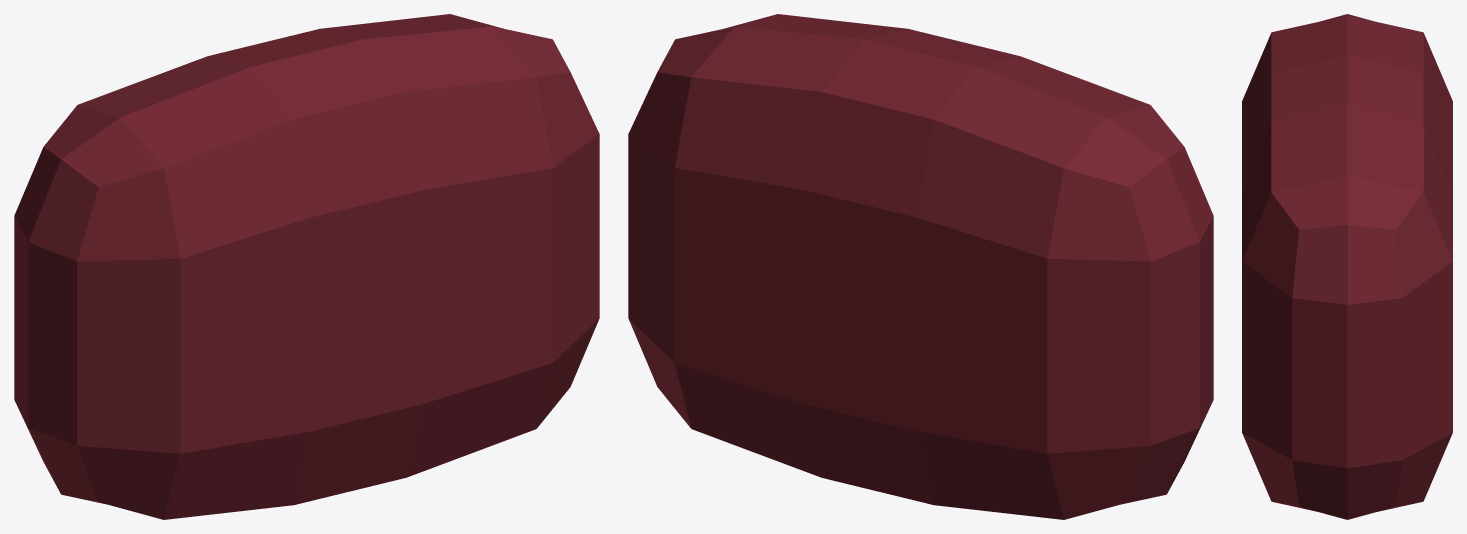
Rendered from kussen5.fbx.
3 views of the same model, side by side, from view 1: azimuth 30°, elevation 25°; view 2: azimuth 150°, elevation 25°; view 3: azimuth 270°, elevation 25° (orthographic). The views are drawn at different scales.
Parts seen in each view (by area): view 1: kussen5; view 2: kussen5; view 3: kussen5.
Part boxes in pixels (x1,y1,x2,y2): kussen5: (14,14,599,519); kussen5: (628,14,1213,519); kussen5: (1242,14,1452,519).
Size of the model in its own units: 0.4487 by 0.3289 by 0.1671.
